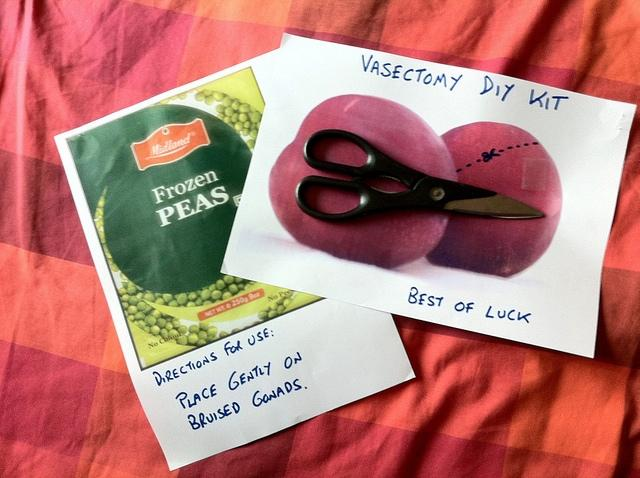pea: (187, 332, 200, 345), (144, 314, 156, 326), (238, 102, 252, 112), (177, 292, 188, 304), (250, 112, 262, 123), (144, 292, 156, 302), (194, 92, 206, 102), (162, 293, 174, 303), (126, 286, 138, 296), (250, 128, 260, 140), (150, 324, 160, 336), (211, 290, 222, 300), (127, 306, 138, 316), (151, 309, 162, 319), (276, 296, 288, 305), (246, 139, 256, 149), (178, 324, 188, 334), (276, 305, 286, 315), (188, 292, 198, 302), (215, 104, 225, 114), (199, 322, 209, 332), (238, 112, 248, 122), (216, 280, 226, 290), (268, 309, 278, 319), (205, 95, 214, 106), (134, 311, 145, 320), (168, 329, 180, 337), (207, 334, 219, 342), (164, 321, 173, 331), (258, 311, 268, 320), (234, 122, 243, 131), (178, 92, 188, 100), (204, 88, 214, 96), (234, 276, 243, 284), (160, 328, 168, 337), (121, 302, 130, 310), (243, 121, 253, 128), (220, 331, 230, 338), (97, 198, 104, 208), (227, 94, 238, 100), (225, 108, 233, 116), (121, 282, 129, 290), (136, 284, 144, 291), (250, 105, 258, 112), (256, 121, 261, 131), (237, 284, 244, 291), (244, 283, 251, 289), (234, 130, 240, 136), (174, 294, 180, 300)
